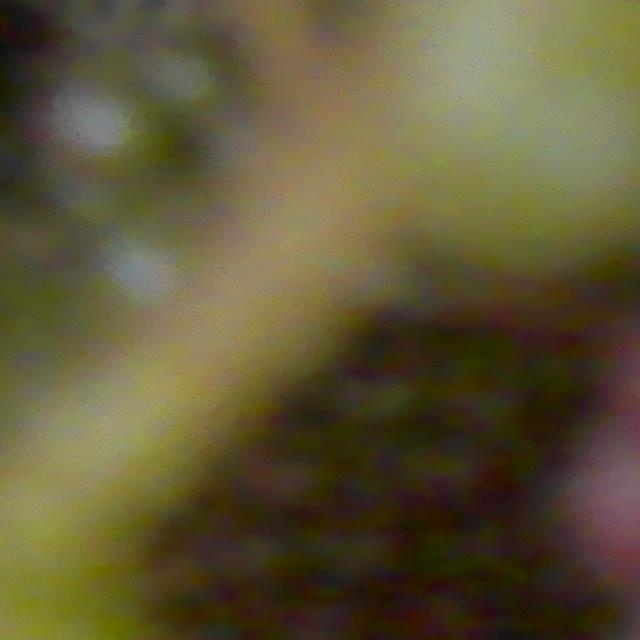SeaGrape: (148, 45, 221, 113)
